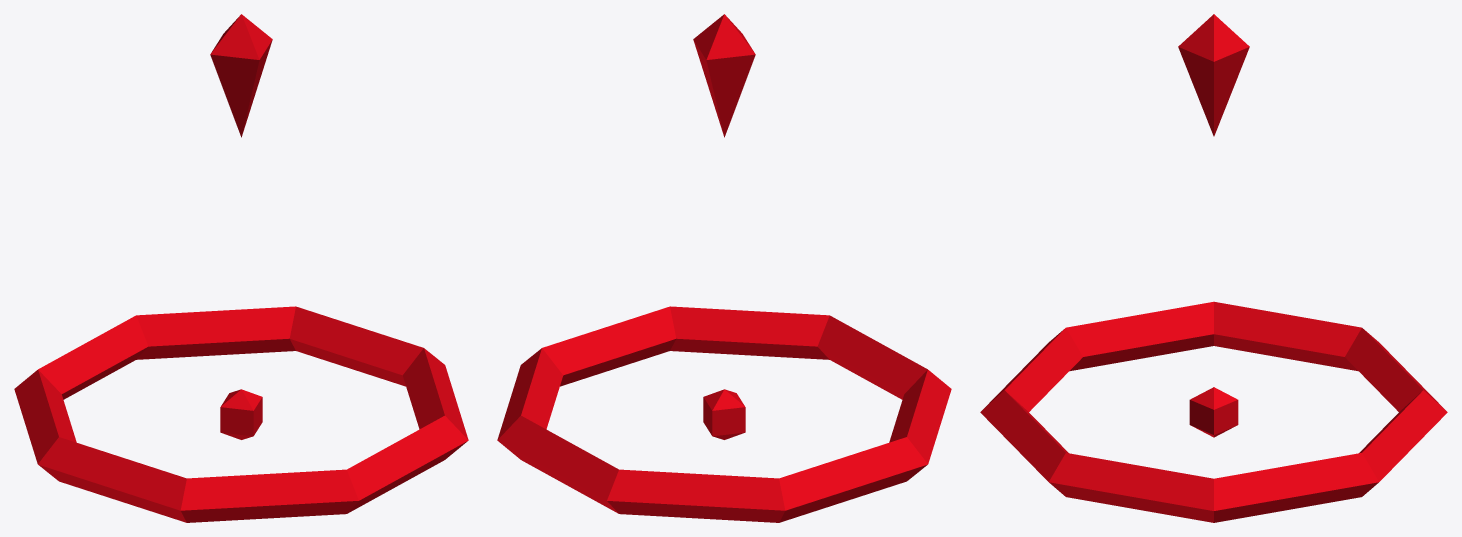
The model's file is pointer.glb.
3 renders of one model, left to right at view 1: azimuth 30°, elevation 25°; view 2: azimuth 150°, elevation 25°; view 3: azimuth 270°, elevation 25°, orthographic.
Visible parts, largest first — view 1: circle, cone, point; view 2: circle, cone, point; view 3: circle, cone, point.
Boxes of the visible parts, <box> form: circle: <box>14,306,468,522</box>; cone: <box>210,14,272,137</box>; point: <box>220,389,262,439</box>; circle: <box>497,306,951,522</box>; cone: <box>693,14,755,137</box>; point: <box>703,389,745,439</box>; circle: <box>980,301,1447,522</box>; cone: <box>1178,14,1249,136</box>; point: <box>1189,387,1238,437</box>.
Bounding box in the file's own units: 1.34 × 1.34 × 1.34.
